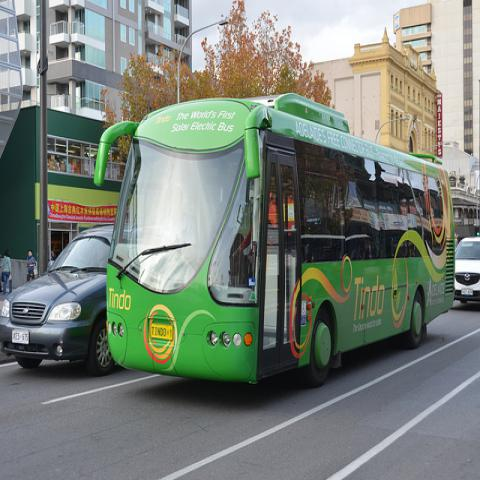bus: (94, 93, 457, 384)
car: (1, 225, 117, 372), (454, 236, 480, 301)
